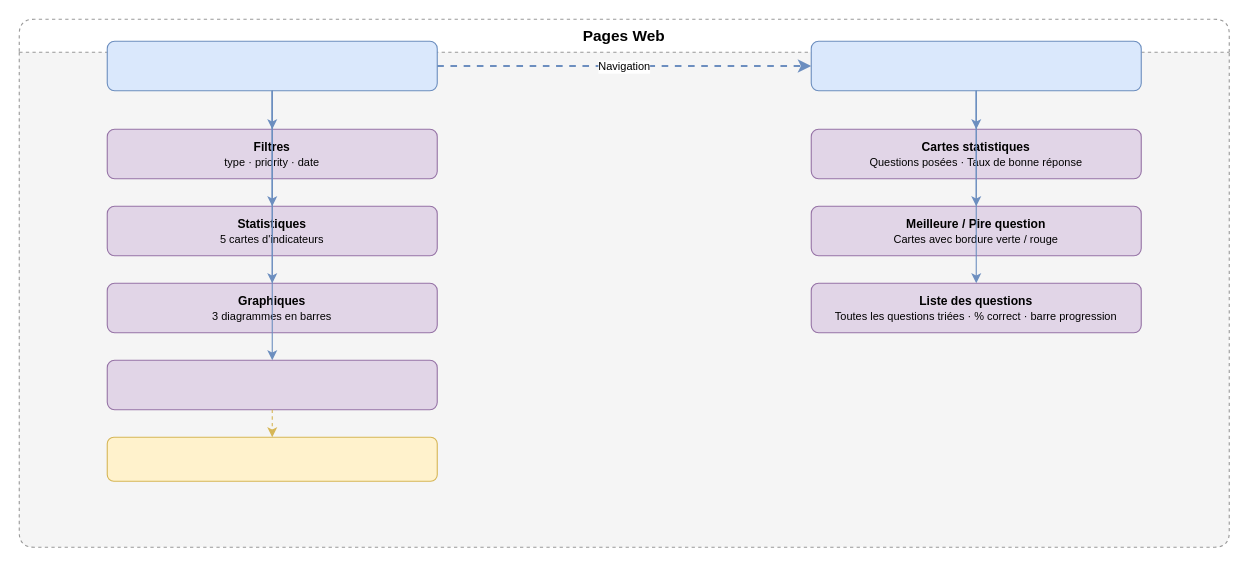
Image size: 1249x567. Some labels were removed from this diagram. The centre of each missing label's shape, as x and y in pixels:
"/event Dashboard des Logs" goes at point (271, 65).
"/questions-stats Stats par question (quiz)" goes at point (975, 65).
"Auto-refresh Toutes les 10 secondes" goes at point (271, 458).
"Liste des logs 20/page · pagination · tri" goes at point (271, 384).
